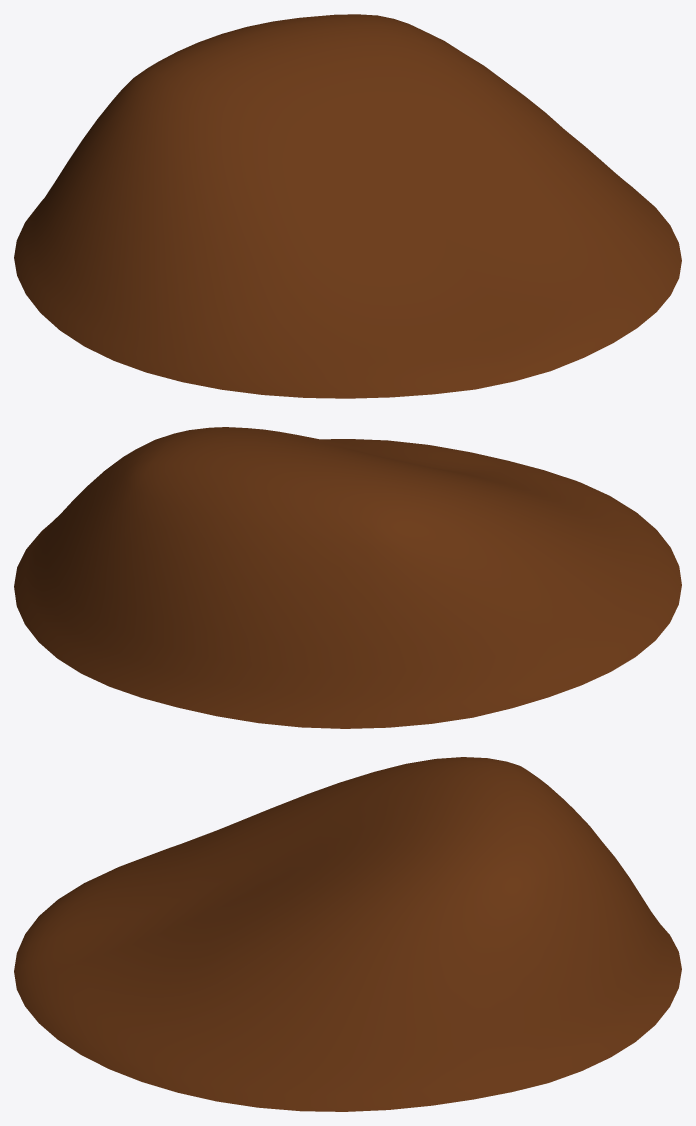
File: rampa_teste.fbx
The picture shows the model from 3 angles, top to bottom: view 1: azimuth 30°, elevation 25°; view 2: azimuth 150°, elevation 25°; view 3: azimuth 270°, elevation 25°; orthographic projection.
Visible parts, largest first — view 1: RampaTeste; view 2: RampaTeste; view 3: RampaTeste.
Part boxes in pixels (x1=…): RampaTeste: x1=14, y1=14, x2=681, y2=398; RampaTeste: x1=14, y1=427, x2=681, y2=728; RampaTeste: x1=14, y1=757, x2=681, y2=1111.
Bounding box in the file's own units: 1063 × 310 × 1077.
